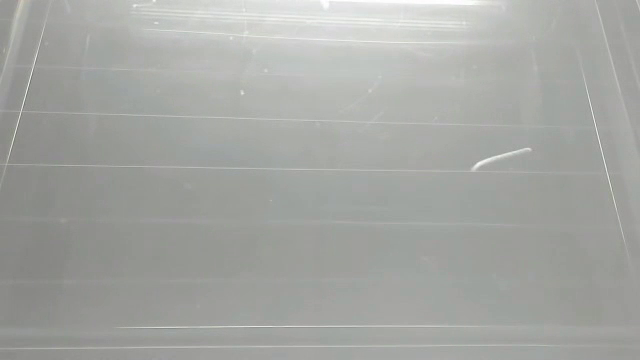alpha: (466, 146, 538, 174), (316, 1, 334, 15)
